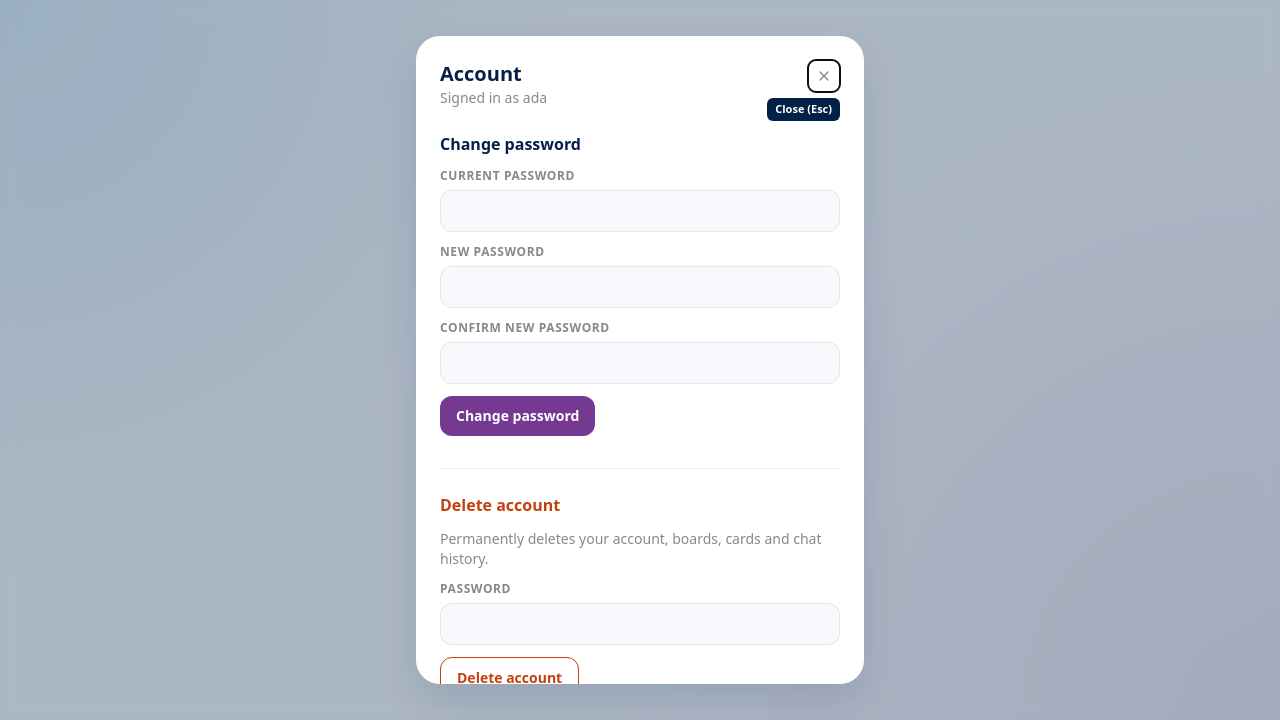
AccountDialog › checks that the new passwords match before sending
The width and height of the screenshot is (1280, 720).
Type "old password" into the password field labelled "Current password" at (640, 211), box [440,190,840,232]
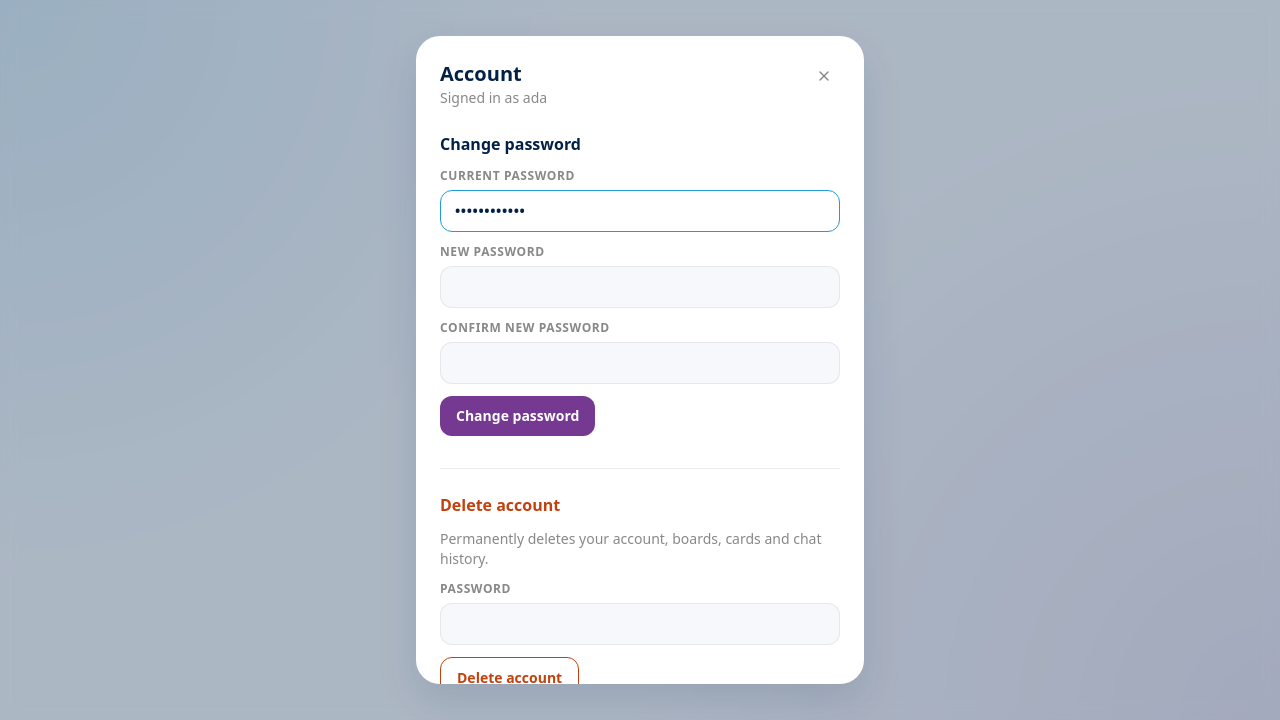
Type "new password" into the password field labelled "New password" at (640, 287), box [440,266,840,308]
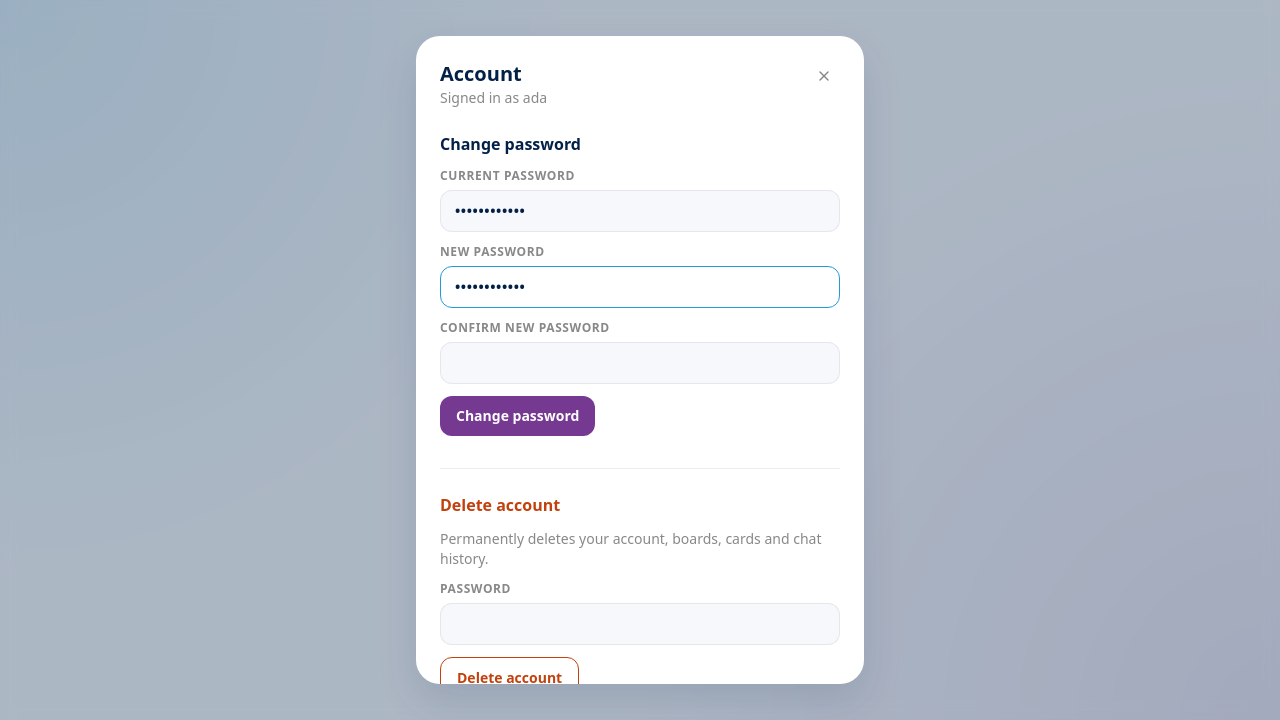
Type "different one" into the password field labelled "Confirm new password" at (640, 363), box [440,342,840,384]
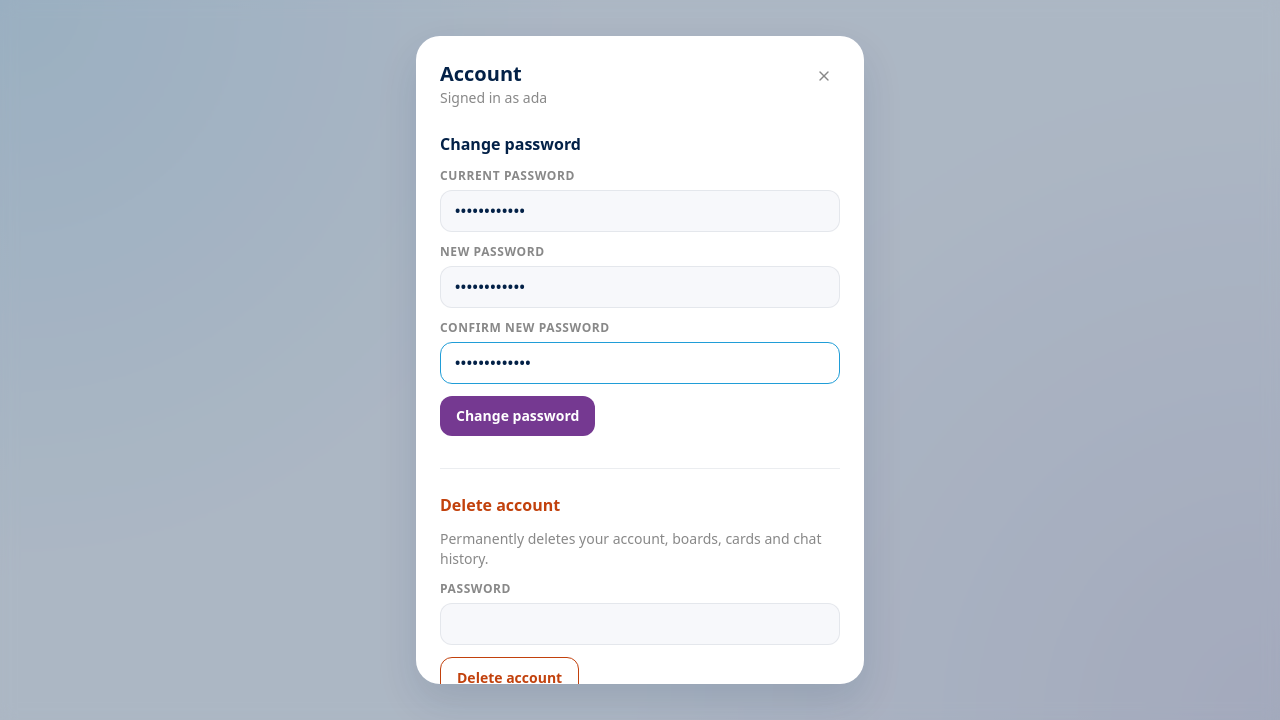
Click the button "Change password" at (518, 416), box [440,396,595,436]
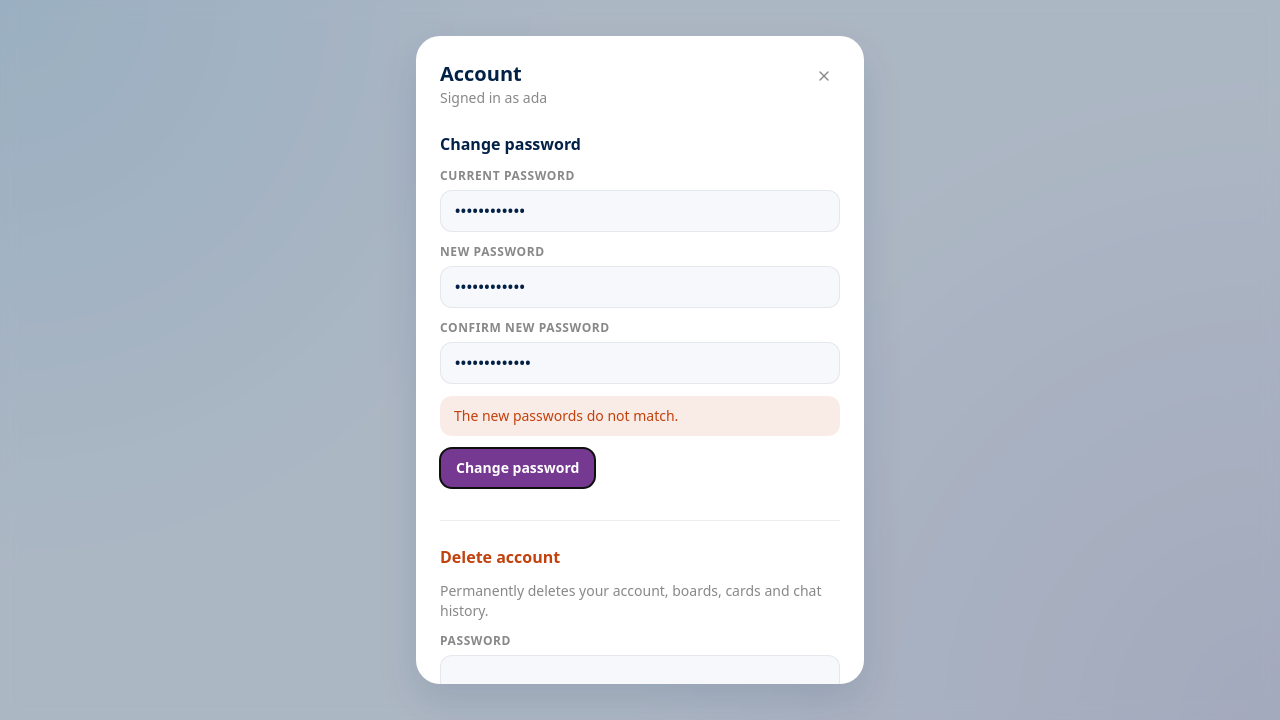
Check: the message reads "The new passwords do not match.", box [454,406,678,425]
